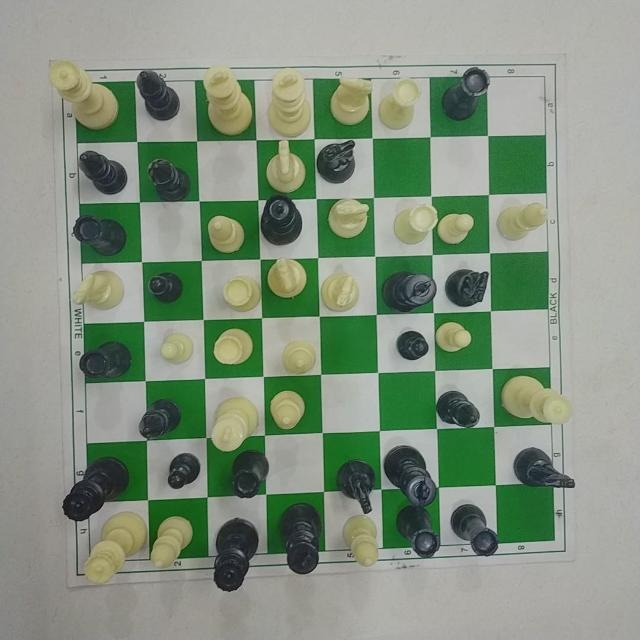black-bishop: (134, 63, 184, 130), (73, 147, 133, 198), (132, 395, 190, 441), (144, 155, 195, 204), (433, 386, 487, 430)
black-king: (384, 442, 441, 510), (277, 502, 327, 576), (380, 268, 437, 315)
black-knight: (508, 444, 579, 493), (332, 455, 380, 517), (316, 137, 366, 189), (444, 266, 490, 308)
black-pawn: (164, 449, 206, 492), (145, 267, 189, 306), (391, 327, 432, 367)
black-queen: (62, 455, 128, 521), (212, 515, 264, 593), (259, 194, 305, 248)
black-rook: (440, 64, 492, 123), (69, 211, 130, 259), (449, 503, 501, 559), (393, 504, 442, 562), (75, 338, 135, 383), (231, 448, 270, 498)
white-bishop: (149, 515, 201, 573), (495, 198, 554, 248), (342, 514, 384, 568), (206, 211, 252, 255), (270, 385, 309, 432), (280, 335, 320, 378)
white-king: (201, 61, 257, 139), (266, 65, 316, 139), (208, 393, 264, 451)
white-knight: (256, 140, 310, 194), (327, 74, 376, 126), (71, 268, 127, 311), (324, 195, 376, 241), (267, 255, 313, 302), (321, 270, 363, 316)
white-pawn: (156, 328, 197, 368), (439, 208, 476, 246), (434, 320, 473, 356)
white-queen: (46, 57, 120, 133), (82, 509, 147, 584), (498, 372, 577, 427)
white-rook: (391, 200, 438, 246), (380, 76, 419, 131), (211, 324, 259, 368), (219, 270, 267, 313)
